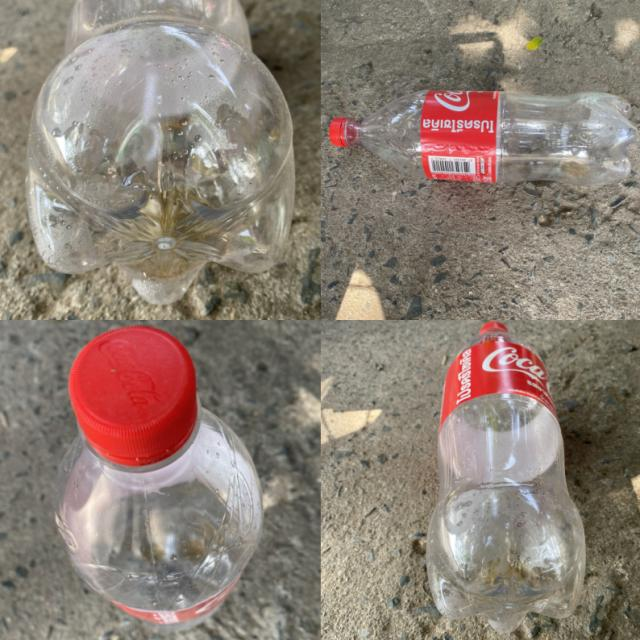plastik: (26, 0, 294, 304), (56, 326, 262, 629), (427, 323, 585, 633), (330, 91, 638, 185)
